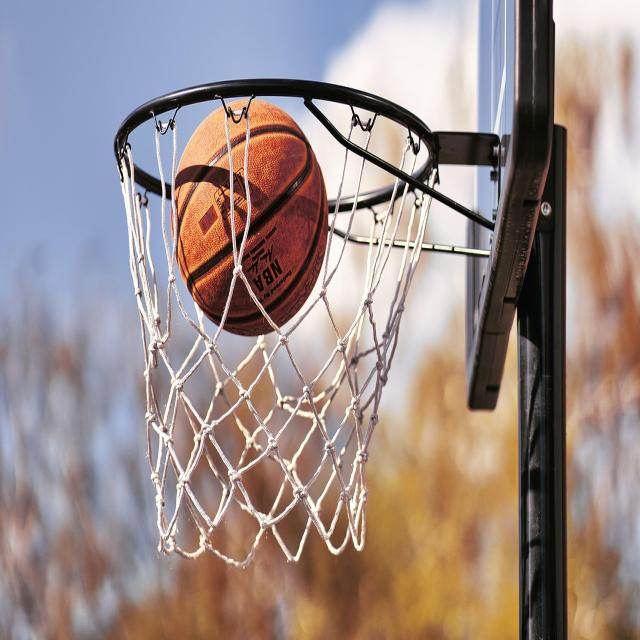Goal: (171, 99, 330, 338)
